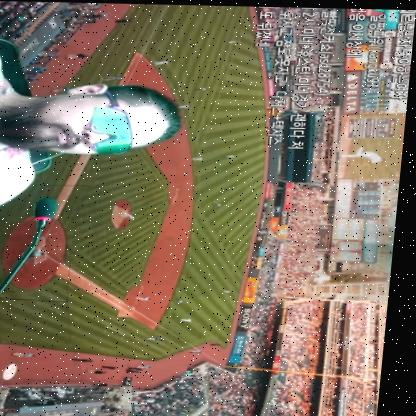streamer: (0, 40, 190, 227)
